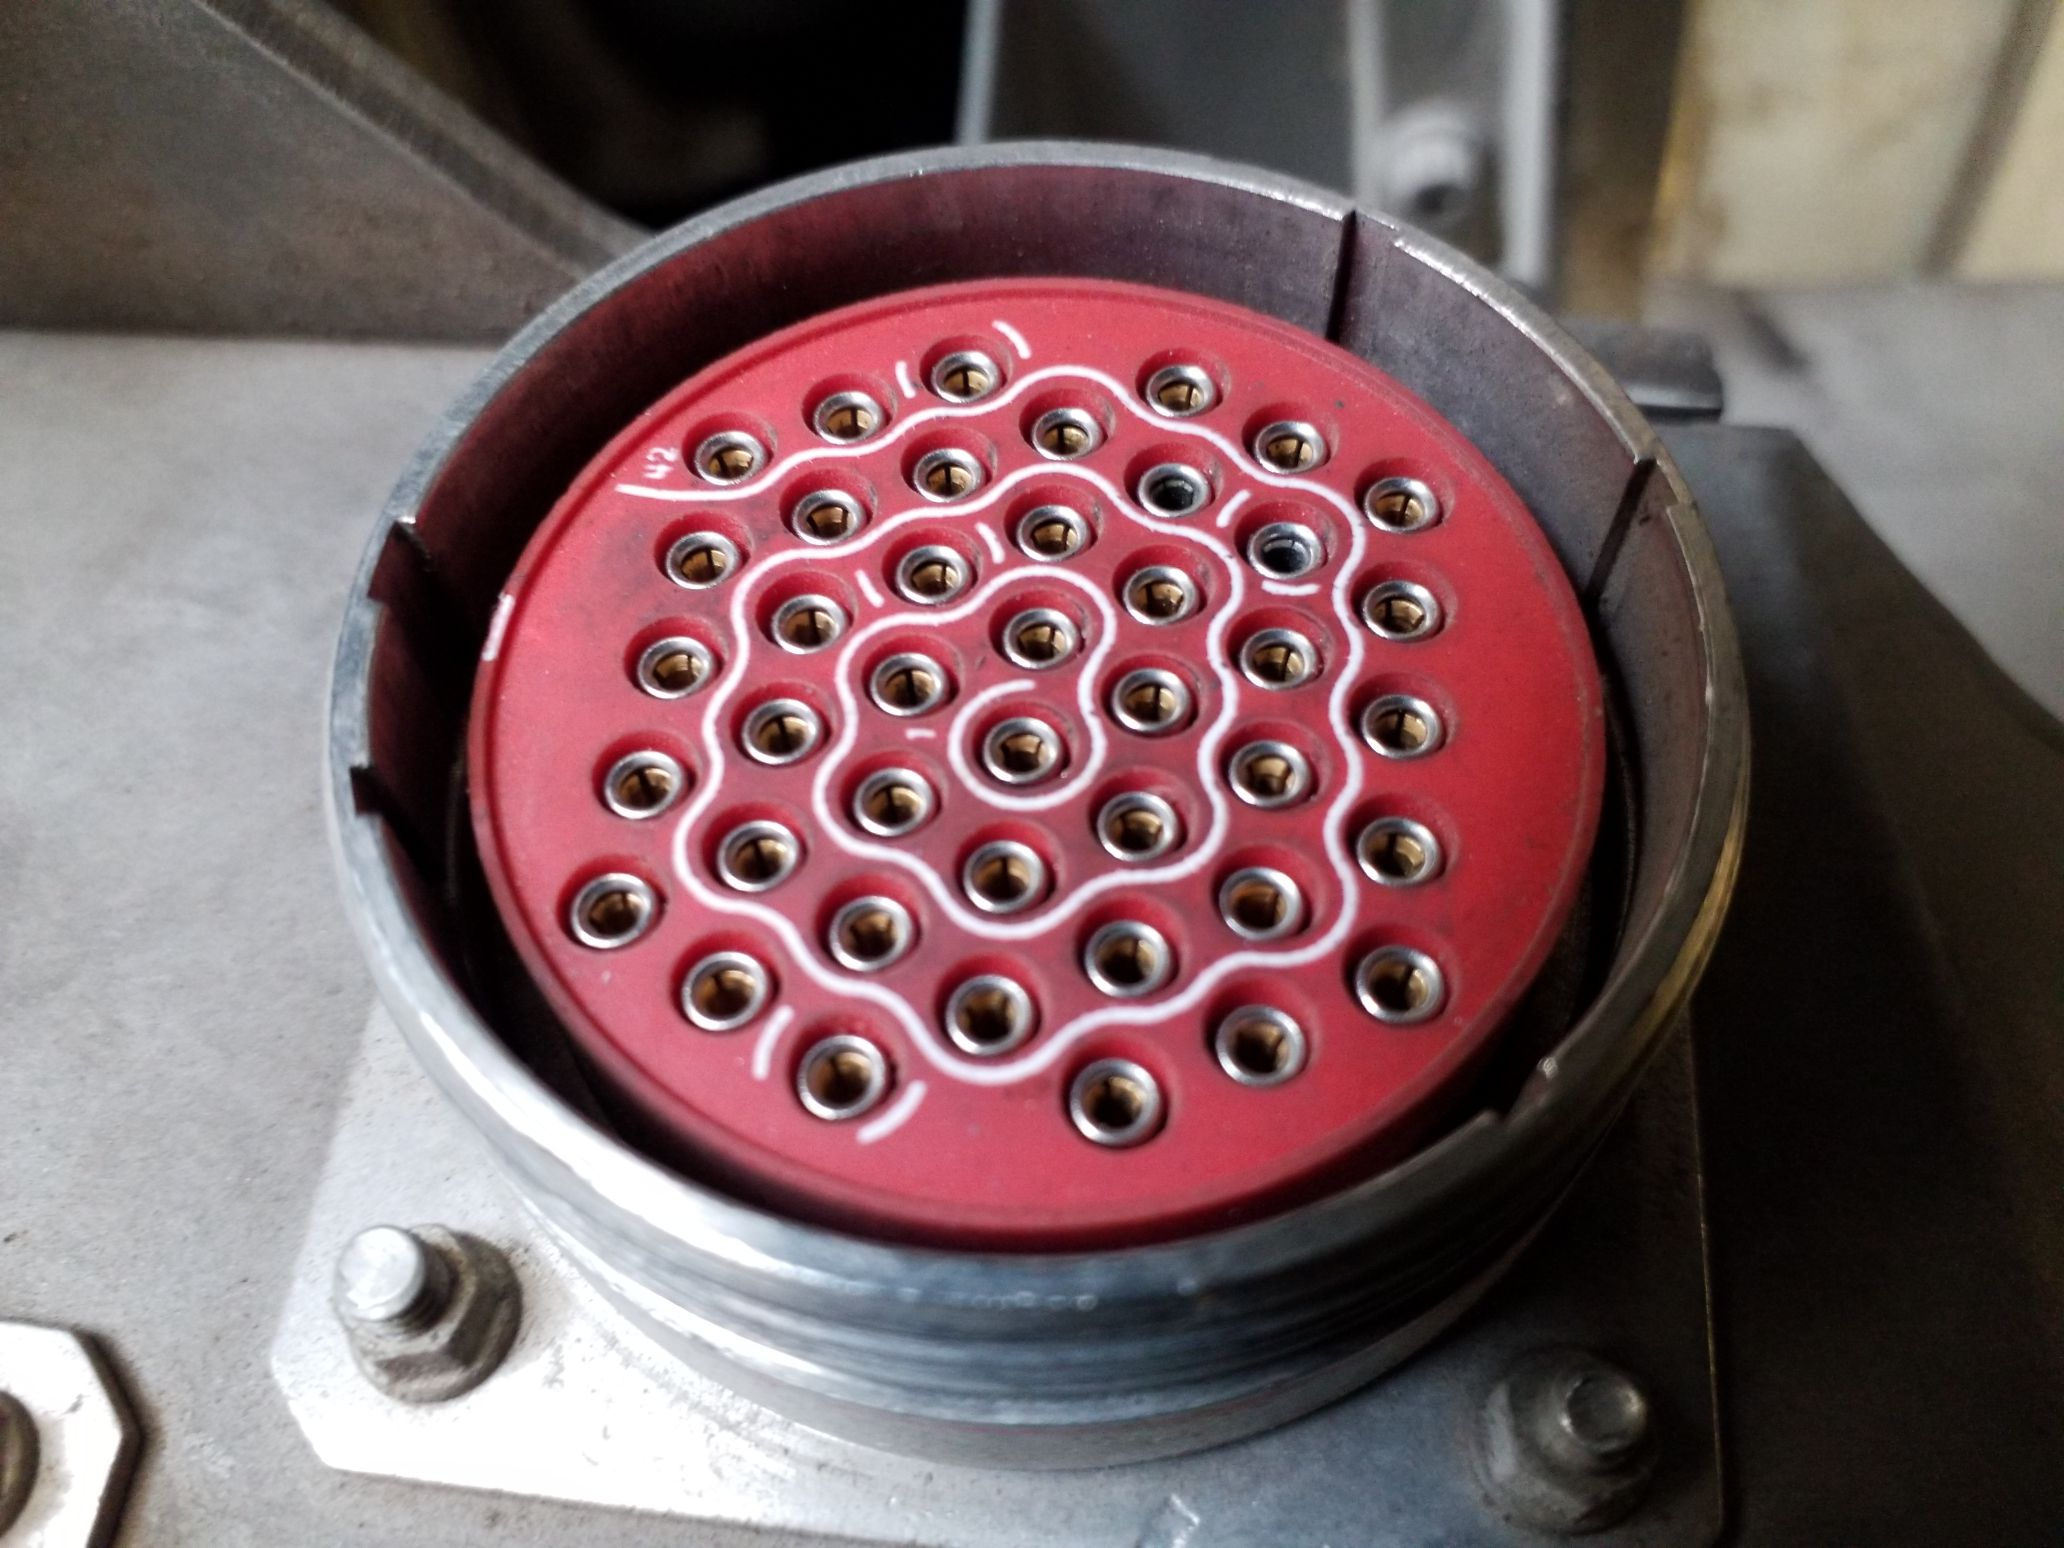inletround: (310, 112, 1762, 1359)
